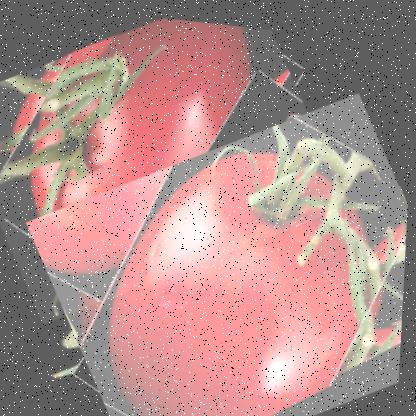tomato: (17, 53, 413, 415), (0, 0, 357, 350)
